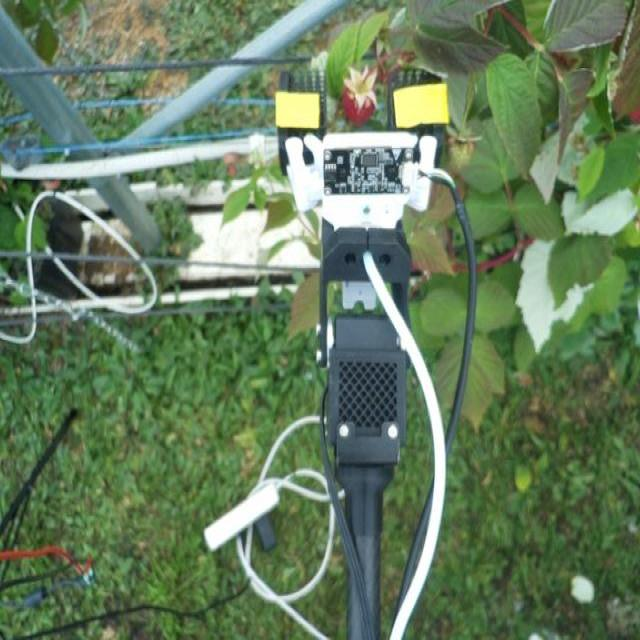Riped berries: (337, 61, 379, 127)
